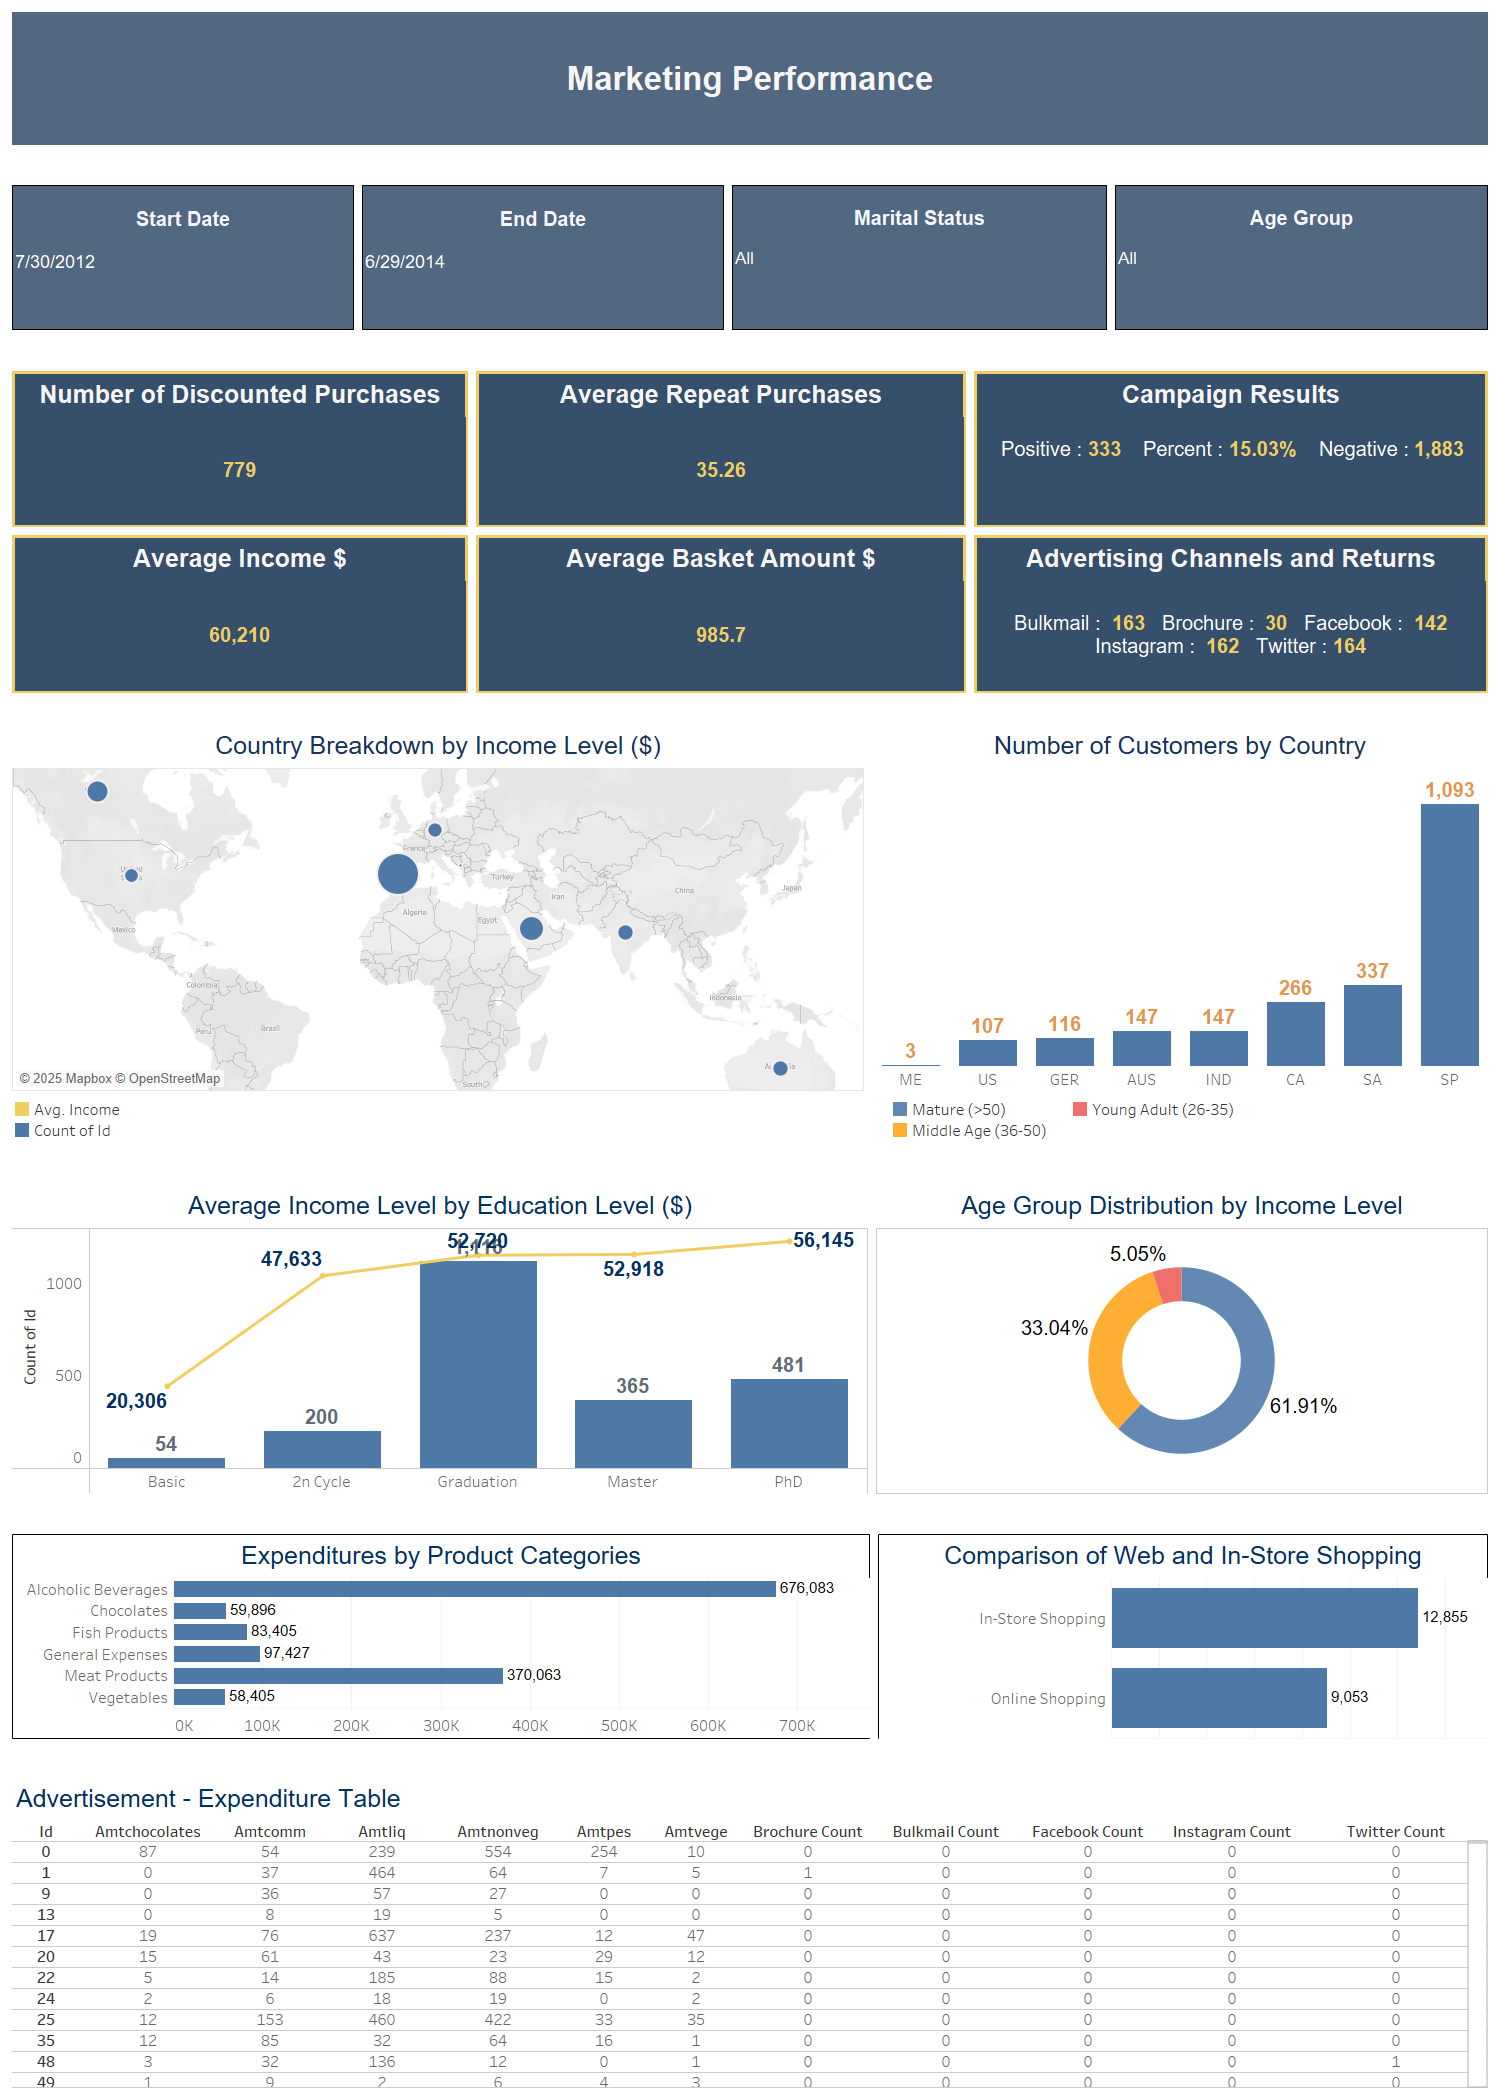

The page's visual inventory and layout, read from the dashboard file:
{"tool":"tableau","page":{"name":"Marketing Performance","canvas":[1500,2100],"ordinal":0},"visuals":[{"type":"text","box":[8,8,1484,140.6]},{"type":"blank","box":[8,148.6,1484,32.1]},{"type":"parameter","param":"[Parameters].[Parameter 1]","box":[8,180.7,350,153.6]},{"type":"parameter","param":"[Parameters].[Parameter 2]","box":[358,180.7,370,153.6]},{"type":"filter","title":"Country Breakdown by Income Level","param":"[federated.0y8vuh81d0b1mv1bt3x7g1y68zn1].[none:marital_status:nk]","box":[728,180.7,383,153.6]},{"type":"filter","title":"Country Breakdown by Income Level","param":"[federated.0y8vuh81d0b1mv1bt3x7g1y68zn1].[none:Calculation_451767362417446913:nk","box":[1111,180.7,381,153.6]},{"type":"blank","box":[8,334.3,1484,32.8]},{"type":"worksheet","title":"Number of Discounted Purchases","mark":"Automatic","box":[8,367.1,464,164.2]},{"type":"worksheet","title":"Average Repeat Purchases","mark":"Automatic","box":[472,367.1,498,164.2]},{"type":"worksheet","title":"Campaign Results","mark":"Automatic","box":[970,367.1,522,164.2]},{"type":"worksheet","title":"Average Income","mark":"Automatic","box":[8,531.3,464,166]},{"type":"worksheet","title":"Average Basket Amount","mark":"Automatic","box":[472,531.3,498,166]},{"type":"worksheet","title":"Advertising Channels and Returns","mark":"Automatic","box":[970,531.3,522,166]},{"type":"blank","box":[8,697.4,1484,24]},{"type":"worksheet","title":"Country Breakdown by Income Level","mark":"Automatic","box":[8,721.4,860,374]},{"type":"worksheet","title":"Number of Customers by Country","mark":"Automatic","rows":["id"],"cols":["country"],"box":[868,721.4,624,374]},{"type":"legend","title":"Average Income Level by Education Level","param":"[federated.0y8vuh81d0b1mv1bt3x7g1y68zn1].[:Measure Names]","box":[8,1095.4,846,54]},{"type":"blank","box":[854,1095.4,32,54]},{"type":"legend","title":"Age Group Distribution by Income Level","param":"[federated.0y8vuh81d0b1mv1bt3x7g1y68zn1].[none:Calculation_451767362417446913:nk","box":[886,1095.4,606,54]},{"type":"blank","box":[8,1149.4,1484,32]},{"type":"worksheet","title":"Average Income Level by Education Level","mark":"Line","rows":["id","income"],"cols":["education"],"box":[8,1181.4,864,316.6]},{"type":"worksheet","title":"Age Group Distribution by Income Level","mark":"Pie","rows":["Calculation_451767362472374281","Calculation_451767362473545738"],"box":[872,1181.4,620,316.6]},{"type":"blank","box":[8,1498,1484,32]},{"type":"worksheet","title":"Expenditures by Product Categories","mark":"Automatic","box":[8,1530,866,213.3]},{"type":"worksheet","title":"Comparison of Web and In-Store Shopping","mark":"Automatic","box":[874,1530,618,213.3]},{"type":"blank","box":[8,1743.3,1484,30.7]},{"type":"worksheet","title":"Advertisement - Expenditure Table","mark":"Automatic","rows":["id","amtchocolates","amtcomm","amtliq","amtnonveg","amtpes","amtvege","Calculation_451767362493562896","Calculation_451767362483388430","Calculation_451767362493751313","Calculation_451767362493952018","Calculation_451767362494083091"],"box":[8,1774,1484,318]}]}

Visuals, with their boxes in screenshot pixels (x1, y1, x2, y2), scaled from the page's 1500x2100 canvas onto the 1500x2100 screenshot:
text: region(8, 8, 1492, 149)
blank: region(8, 149, 1492, 181)
parameter: region(8, 181, 358, 334)
parameter: region(358, 181, 728, 334)
"Country Breakdown by Income Level" filter: region(728, 181, 1111, 334)
"Country Breakdown by Income Level" filter: region(1111, 181, 1492, 334)
blank: region(8, 334, 1492, 367)
"Number of Discounted Purchases" worksheet: region(8, 367, 472, 531)
"Average Repeat Purchases" worksheet: region(472, 367, 970, 531)
"Campaign Results" worksheet: region(970, 367, 1492, 531)
"Average Income" worksheet: region(8, 531, 472, 697)
"Average Basket Amount" worksheet: region(472, 531, 970, 697)
"Advertising Channels and Returns" worksheet: region(970, 531, 1492, 697)
blank: region(8, 697, 1492, 721)
"Country Breakdown by Income Level" worksheet: region(8, 721, 868, 1095)
"Number of Customers by Country" worksheet: region(868, 721, 1492, 1095)
"Average Income Level by Education Level" legend: region(8, 1095, 854, 1149)
blank: region(854, 1095, 886, 1149)
"Age Group Distribution by Income Level" legend: region(886, 1095, 1492, 1149)
blank: region(8, 1149, 1492, 1181)
"Average Income Level by Education Level" worksheet (Line marks): region(8, 1181, 872, 1498)
"Age Group Distribution by Income Level" worksheet (Pie marks): region(872, 1181, 1492, 1498)
blank: region(8, 1498, 1492, 1530)
"Expenditures by Product Categories" worksheet: region(8, 1530, 874, 1743)
"Comparison of Web and In-Store Shopping" worksheet: region(874, 1530, 1492, 1743)
blank: region(8, 1743, 1492, 1774)
"Advertisement - Expenditure Table" worksheet: region(8, 1774, 1492, 2092)
